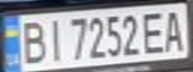2: (84, 12, 106, 60), (121, 11, 142, 57)
5: (103, 11, 124, 58)
7: (66, 14, 87, 61)
A: (160, 7, 190, 54)
B: (15, 17, 48, 65)
E: (139, 8, 169, 55)
I: (42, 16, 69, 63)
